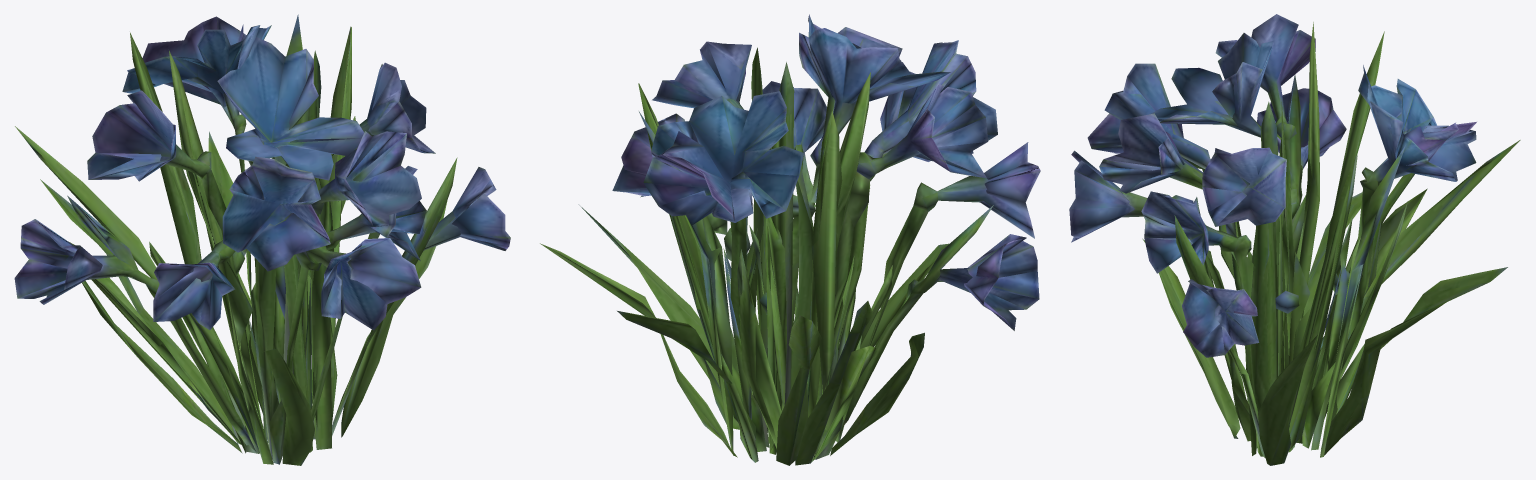
The model's file is gentian.glb.
3 views of the same model, side by side, from view 1: azimuth 30°, elevation 25°; view 2: azimuth 150°, elevation 25°; view 3: azimuth 270°, elevation 25° (orthographic). The views are drawn at different scales.
Size of the model in its own units: 0.9595 by 0.8858 by 0.9345.
Materials: 1 (1 with a texture image).
